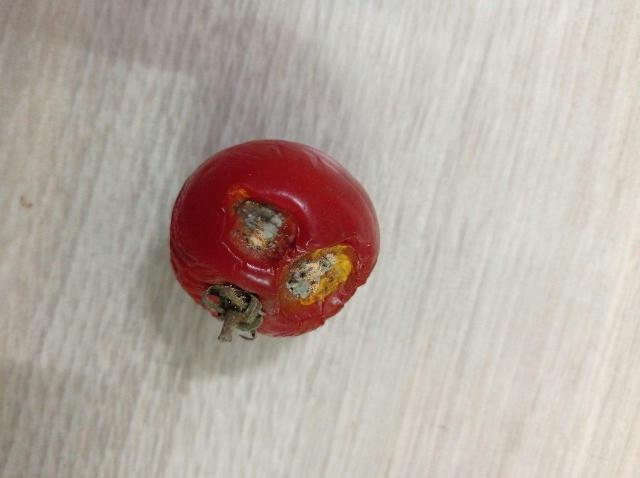defect: (165, 135, 389, 345)
